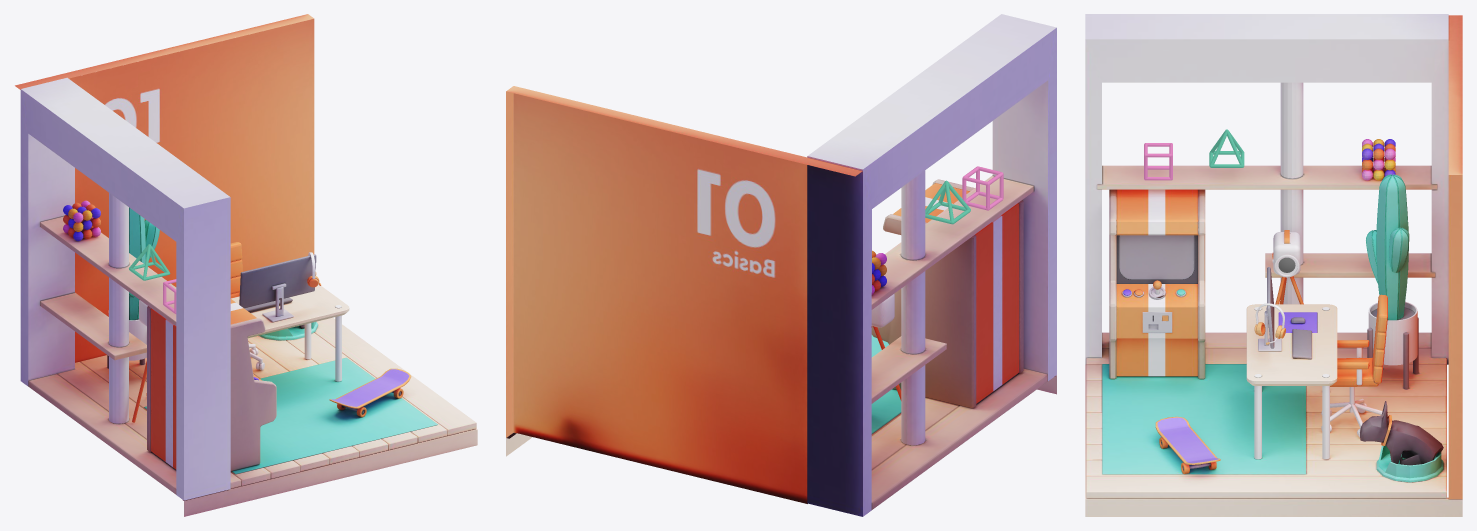
File: level.glb
3 views of the same model, side by side, from view 1: azimuth 30°, elevation 25°; view 2: azimuth 150°, elevation 25°; view 3: azimuth 270°, elevation 25° (orthographic). The views are drawn at different scales.
Parts seen in each view (by area): view 1: Level, Cactus, Pyramid; view 2: Level, Cube, Pyramid; view 3: Level, Cactus, Sudo, Camera, SudoHead, Pyramid, Cube.
Boxes of the visible parts, bbox=[...] form: Level: bbox=[15, 14, 477, 516]; Cactus: bbox=[129, 207, 159, 320]; Pyramid: bbox=[129, 244, 170, 280]; Level: bbox=[506, 14, 1056, 516]; Cube: bbox=[962, 166, 1003, 210]; Pyramid: bbox=[925, 180, 970, 224]; Level: bbox=[1085, 14, 1462, 516]; Cactus: bbox=[1366, 174, 1409, 320]; Sudo: bbox=[1385, 420, 1443, 465]; Camera: bbox=[1272, 230, 1300, 277]; SudoHead: bbox=[1360, 401, 1391, 445]; Pyramid: bbox=[1209, 129, 1244, 167]; Cube: bbox=[1144, 143, 1172, 180].
Size of the model in its own units: 2 by 2.01 by 2.
5 materials, 2 textured.
